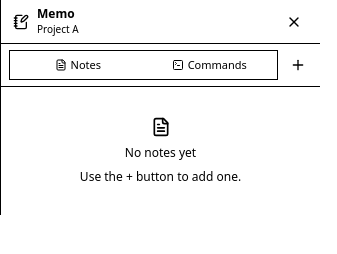
ProjectMemoPanel › reports a non-blocking error when the write fails, keeping the memo
Click the tab "Commands": [209, 65] box [144,53,275,77]
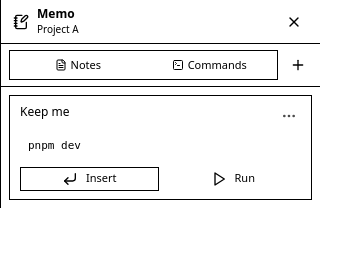
Click the button "Run": [233, 178] box [164,166,301,190]
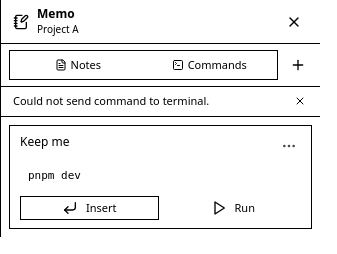
Now the text "pnpm dev" is shown, box [28,168,81,182]
Now the text "Keep me" is shown, box [20,132,70,150]
Now the text "Could not send command to terminal." is shown, box [13,93,209,108]
